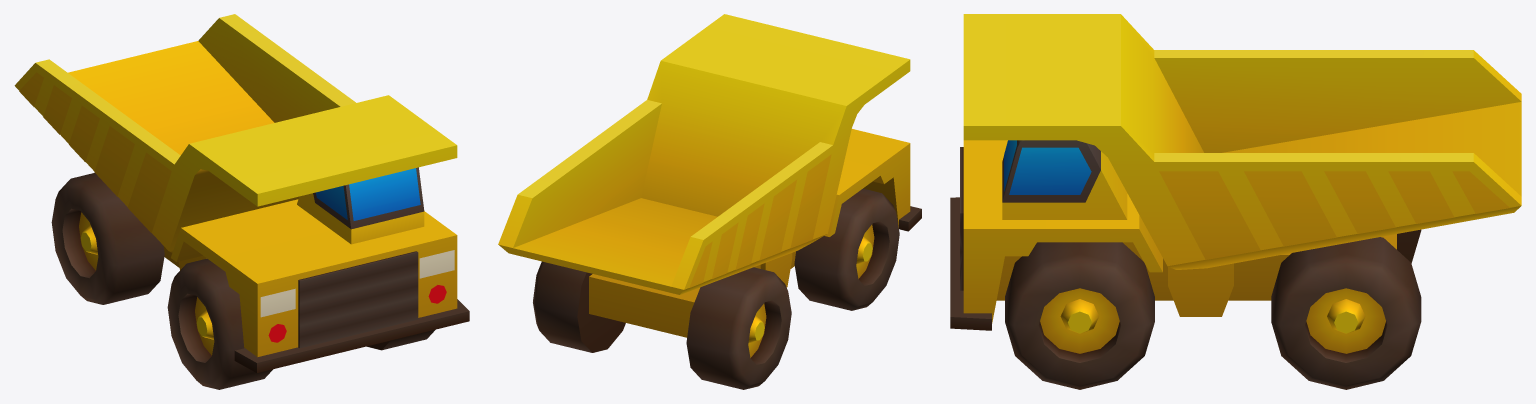
Rendered from truck.fbx.
3 views of the same model, side by side, from view 1: azimuth 30°, elevation 25°; view 2: azimuth 150°, elevation 25°; view 3: azimuth 270°, elevation 25° (orthographic). The views are drawn at different scales.
Visible parts, largest first — view 1: truck; view 2: truck; view 3: truck.
Boxes of the visible parts, box(x1,y1,x2,y2) form: truck: box(14, 14, 469, 389); truck: box(498, 14, 921, 389); truck: box(950, 14, 1521, 389).
Size of the model in its own units: 20.68 by 20.43 by 40.4.
